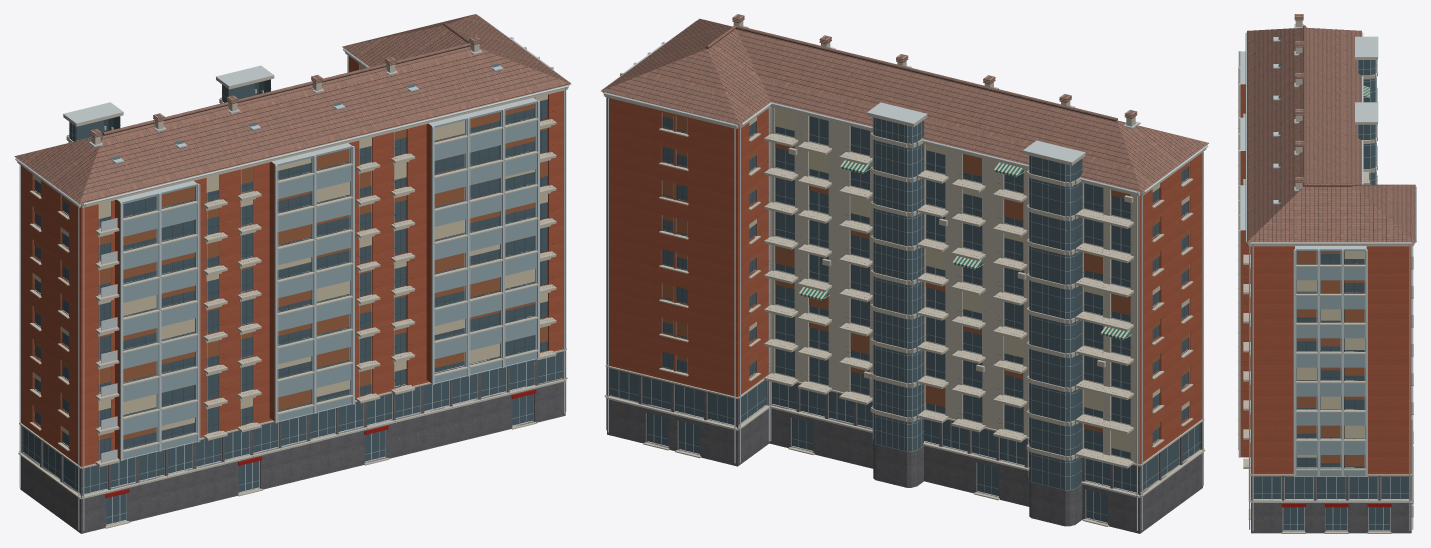
File: Molassi_Unreal.glb
3 renders of one model, left to right at view 1: azimuth 30°, elevation 25°; view 2: azimuth 150°, elevation 25°; view 3: azimuth 270°, elevation 25°, orthographic. The views are drawn at different scales.
Visible parts, largest first — view 1: SM_Molassi | Laterizio, SM_Molassi | Vetro 0, SM_Molassi | Tegole 2, SM_Molassi | Pannelli azzurri, SM_Molassi | Alluminio, SM_Molassi | Intonaco, SM_Molassi | Pietra grigia continua, SM_Molassi | Tapparella cotto, SM_Molassi | Ferro verniciato, SM_Molassi | Tapparella avorio; view 2: SM_Molassi | Vetro 0, SM_Molassi | Intonaco, SM_Molassi | Laterizio, SM_Molassi | Tegole 2, SM_Molassi | Alluminio, SM_Molassi | Pietra grigia continua, SM_Molassi | Tapparella cotto, SM_Molassi | Tapparella avorio, SM_Molassi | Ferro verniciato, SM_Molassi | Tenda verde, SM_Molassi | Tenda avorio; view 3: SM_Molassi | Tegole 2, SM_Molassi | Laterizio, SM_Molassi | Alluminio, SM_Molassi | Vetro 0, SM_Molassi | Pannelli azzurri, SM_Molassi | Intonaco, SM_Molassi | Pietra grigia continua, SM_Molassi | Tapparella cotto, SM_Molassi | Tapparella avorio, SM_Molassi | Ferro verniciato, SM_Molassi | Insegna rossa.
Boxes of the visible parts, bbox=[...] form: SM_Molassi | Laterizio: bbox=[21, 56, 565, 466]; SM_Molassi | Vetro 0: bbox=[23, 63, 562, 524]; SM_Molassi | Tegole 2: bbox=[14, 14, 571, 204]; SM_Molassi | Pannelli azzurri: bbox=[122, 101, 540, 459]; SM_Molassi | Alluminio: bbox=[15, 14, 570, 530]; SM_Molassi | Intonaco: bbox=[17, 37, 569, 528]; SM_Molassi | Pietra grigia continua: bbox=[20, 294, 565, 533]; SM_Molassi | Tapparella cotto: bbox=[33, 103, 547, 439]; SM_Molassi | Ferro verniciato: bbox=[23, 68, 548, 519]; SM_Molassi | Tapparella avorio: bbox=[33, 64, 547, 435]; SM_Molassi | Vetro 0: bbox=[610, 116, 1199, 522]; SM_Molassi | Intonaco: bbox=[602, 14, 1206, 526]; SM_Molassi | Laterizio: bbox=[607, 73, 1202, 464]; SM_Molassi | Tegole 2: bbox=[601, 14, 1208, 192]; SM_Molassi | Alluminio: bbox=[602, 19, 1208, 530]; SM_Molassi | Pietra grigia continua: bbox=[607, 333, 1202, 533]; SM_Molassi | Tapparella cotto: bbox=[662, 112, 1189, 432]; SM_Molassi | Tapparella avorio: bbox=[749, 108, 1189, 452]; SM_Molassi | Ferro verniciato: bbox=[642, 116, 1200, 517]; SM_Molassi | Tenda verde: bbox=[800, 160, 1131, 340]; SM_Molassi | Tenda avorio: bbox=[798, 160, 1129, 340]; SM_Molassi | Tegole 2: bbox=[1247, 14, 1415, 242]; SM_Molassi | Laterizio: bbox=[1240, 84, 1411, 474]; SM_Molassi | Alluminio: bbox=[1238, 24, 1416, 531]; SM_Molassi | Vetro 0: bbox=[1253, 36, 1408, 530]; SM_Molassi | Pannelli azzurri: bbox=[1296, 249, 1365, 475]; SM_Molassi | Intonaco: bbox=[1238, 14, 1415, 533]; SM_Molassi | Pietra grigia continua: bbox=[1251, 321, 1411, 533]; SM_Molassi | Tapparella cotto: bbox=[1297, 251, 1364, 466]; SM_Molassi | Tapparella avorio: bbox=[1297, 251, 1364, 457]; SM_Molassi | Ferro verniciato: bbox=[1281, 251, 1381, 530]; SM_Molassi | Insegna rossa: bbox=[1281, 503, 1391, 507].
Size of the model in its own units: 47.71 by 33.79 by 16.7.
14 materials, 4 textured.
